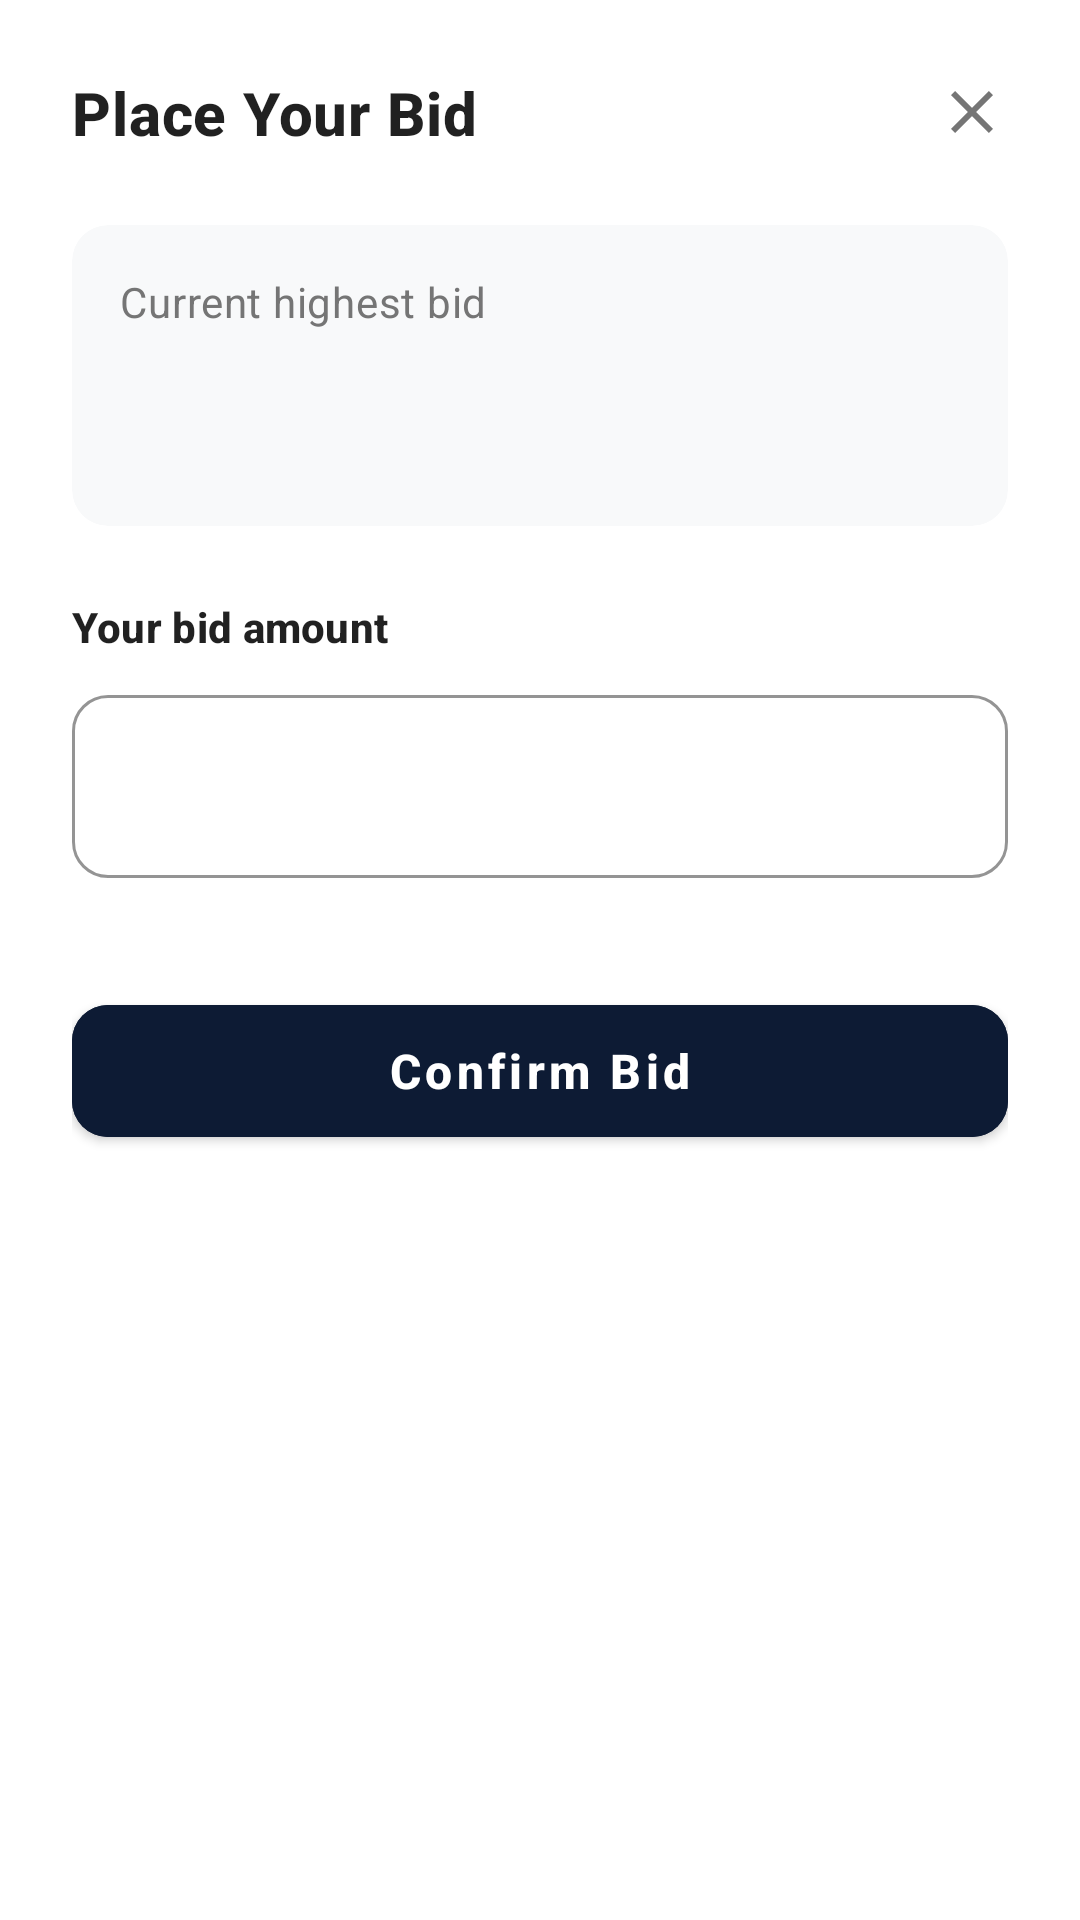

Where to tap for icons on this 1080×1920 app screen, as [x,y]:
Close: [972,112]
